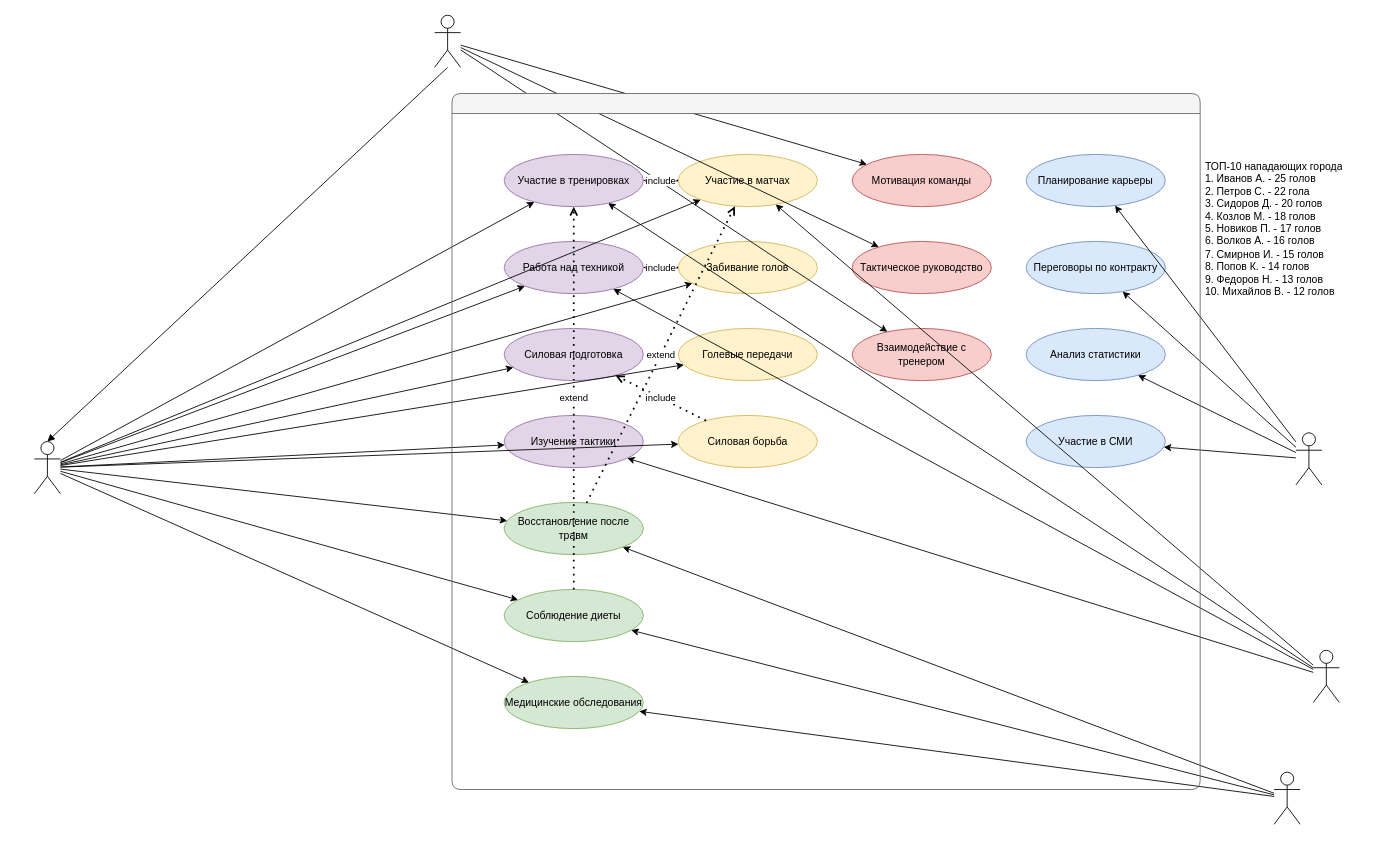
Some shapes in this 1389 by 858 pixel diagram are drawn without their labels. The shapes that lost their labels are listed below. From the top down, each one's box as (x1, y1, x2, y2) in pixels, then its label:
(434, 14, 461, 67): Капитан команды
(451, 93, 1200, 790): Хоккейная система управления нападающими
(1295, 432, 1322, 485): Спортивный директор
(33, 441, 60, 494): Нападающий
(1312, 649, 1339, 703): Тренер
(1273, 771, 1300, 824): Медицинский staff
